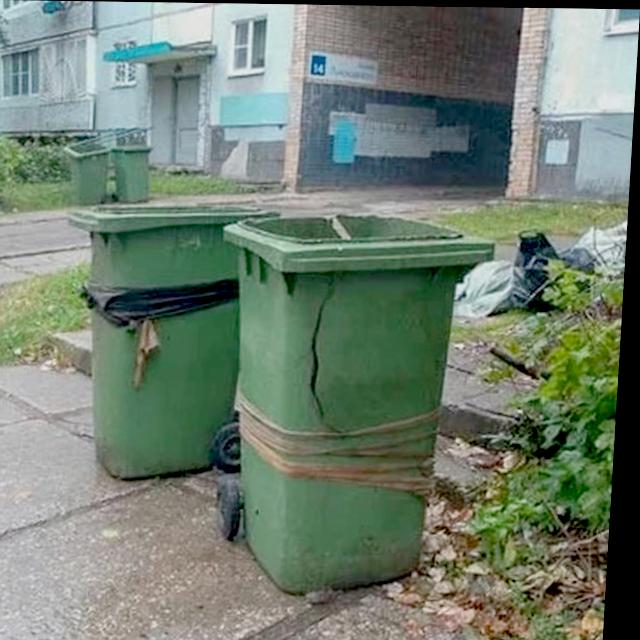Trash_Can_Empty: (211, 211, 501, 596), (71, 205, 285, 478)
